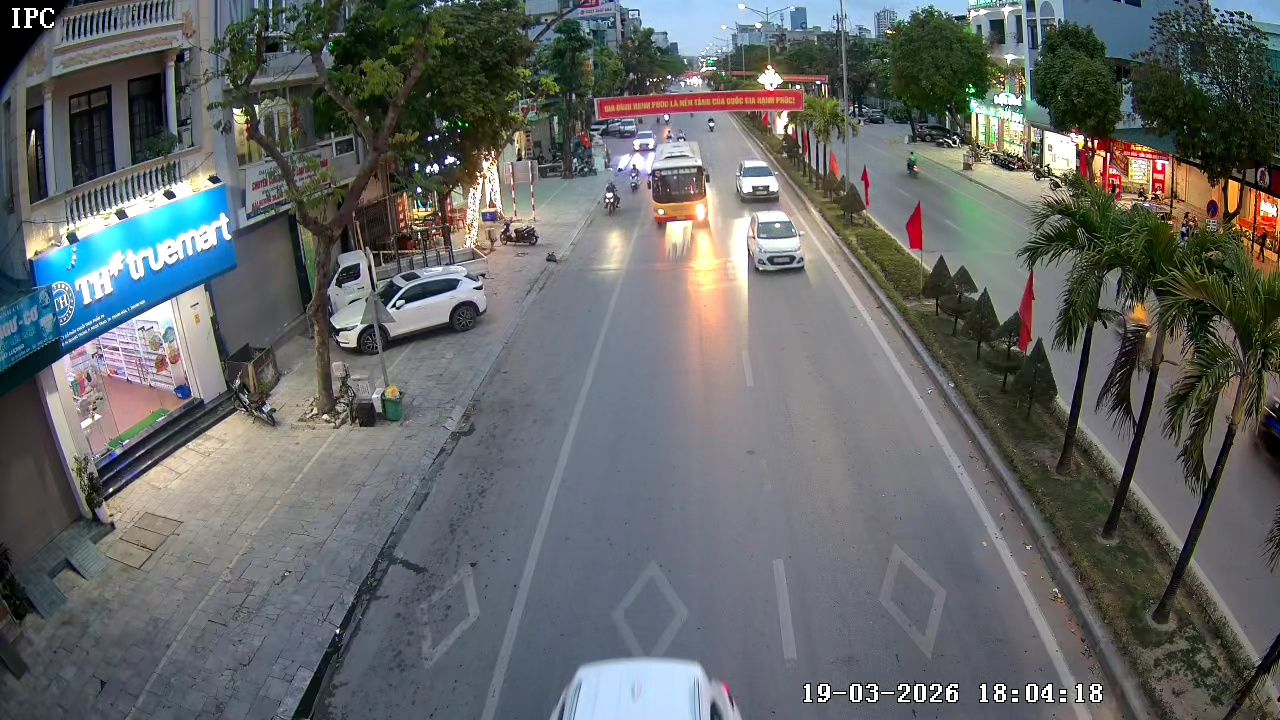bus: (649, 137, 711, 231)
car: (331, 263, 488, 352), (742, 208, 806, 274), (736, 158, 782, 204)
motorbike: (602, 175, 623, 216), (708, 117, 718, 132)
